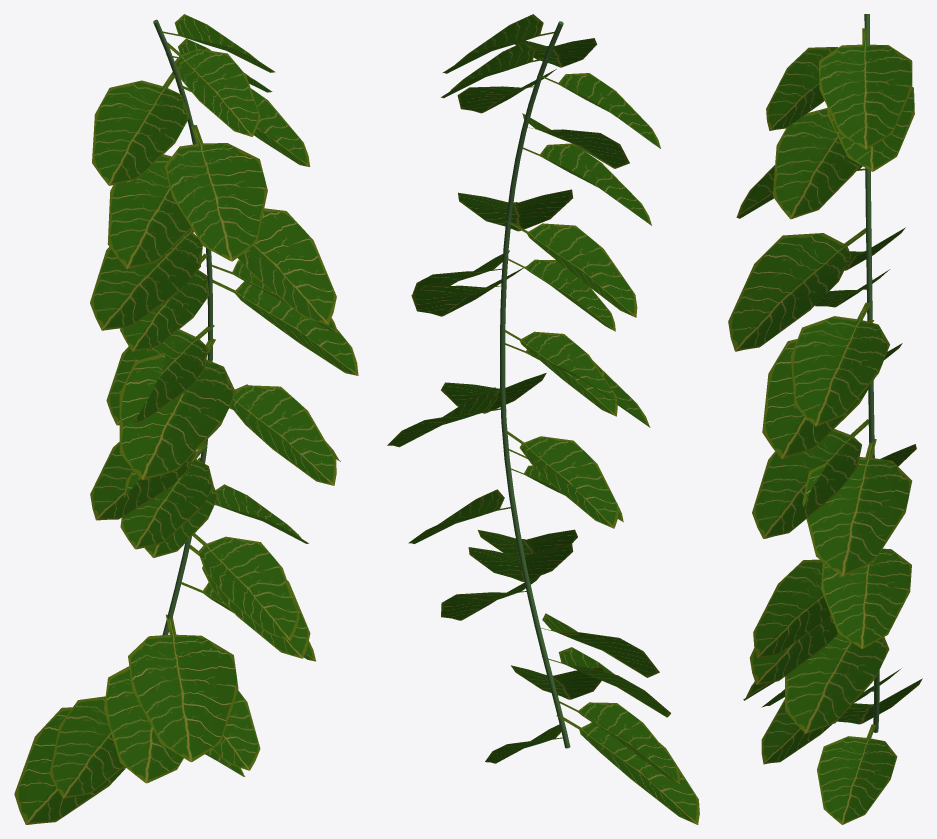
File: PlantTest.fbx
3 views of the same model, side by side, from view 1: azimuth 30°, elevation 25°; view 2: azimuth 150°, elevation 25°; view 3: azimuth 270°, elevation 25° (orthographic).
Parts seen in each view (by area): view 1: BézierCurve.003; view 2: BézierCurve.003; view 3: BézierCurve.003.
Boxes of the visible parts, x1,y1,x2,y2 form: BézierCurve.003: (14,14,358,824); BézierCurve.003: (387,14,699,824); BézierCurve.003: (728,14,922,824).
Size of the model in its own units: 129 by 310 by 70.53.
